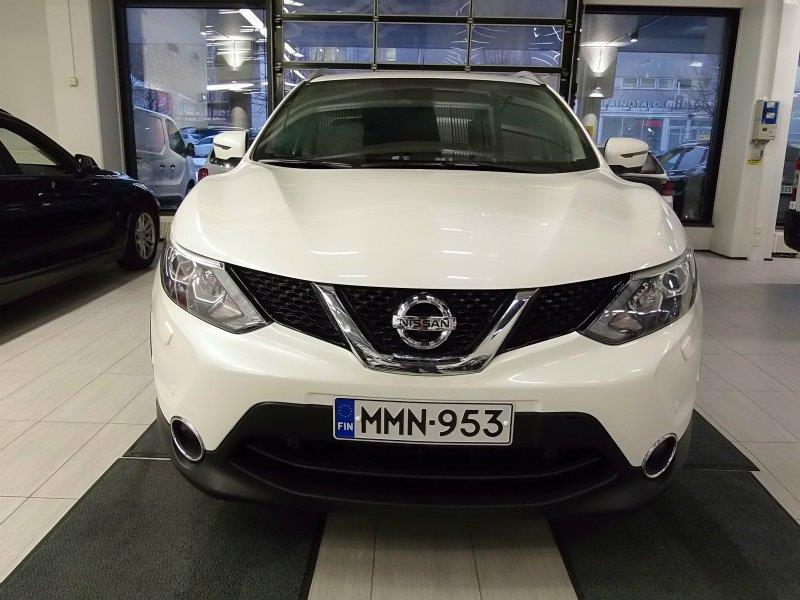license: (332, 396, 509, 451)
